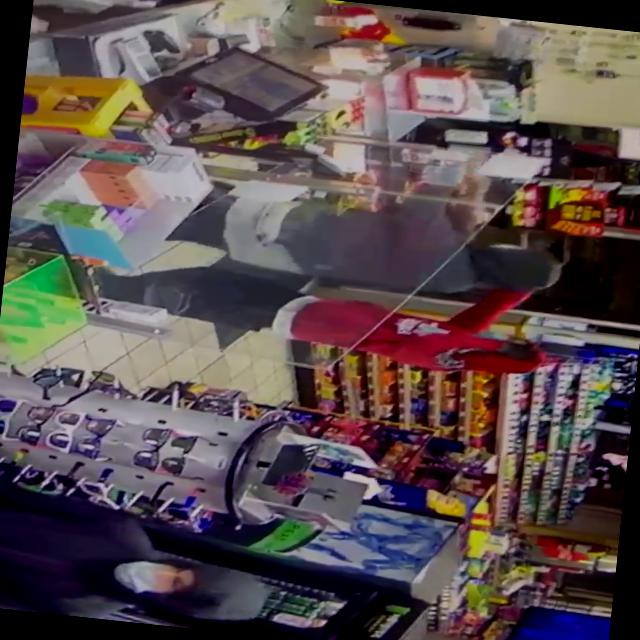handgun: (538, 226, 580, 272)
